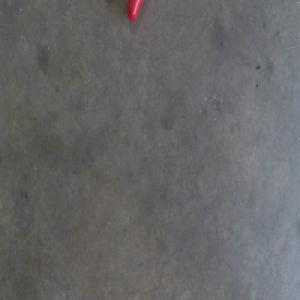Pliers: (127, 0, 144, 21)
